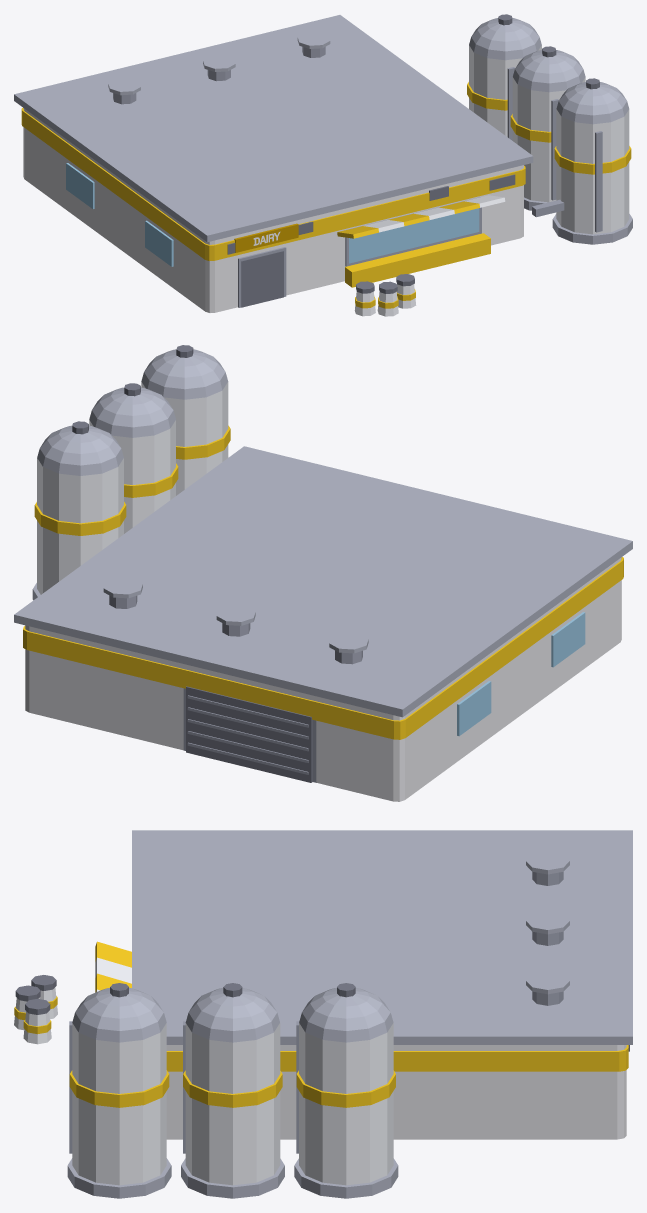
File: dairy-2x2-t3-tone-a.glb
3 views of the same model, one above another, from view 1: azimuth 30°, elevation 25°; view 2: azimuth 150°, elevation 25°; view 3: azimuth 270°, elevation 25° (orthographic). The views are drawn at different scales.
Parts seen in each view (by area): view 1: dairy-2x2-t3-tone-a; view 2: dairy-2x2-t3-tone-a; view 3: dairy-2x2-t3-tone-a.
Boxes of the visible parts, box(x1,y1,x2,y2) form: dairy-2x2-t3-tone-a: box(14, 14, 632, 316); dairy-2x2-t3-tone-a: box(14, 345, 632, 801); dairy-2x2-t3-tone-a: box(14, 830, 632, 1198).
Bounding box in the file's own units: 1.98 × 0.665 × 1.97.
Materials: 1 (1 with a texture image).
